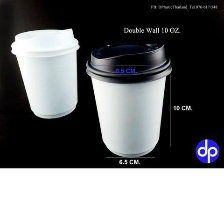paper_cup: (81, 35, 178, 162), (7, 21, 84, 123)
